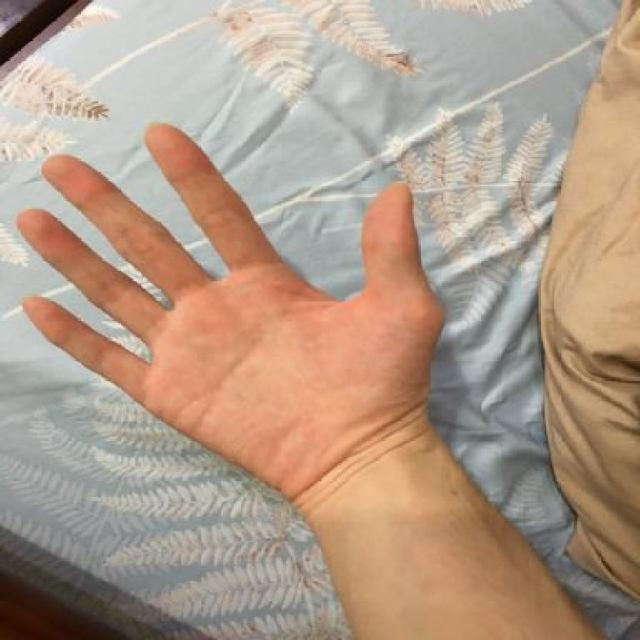Hand: (15, 120, 451, 548)
